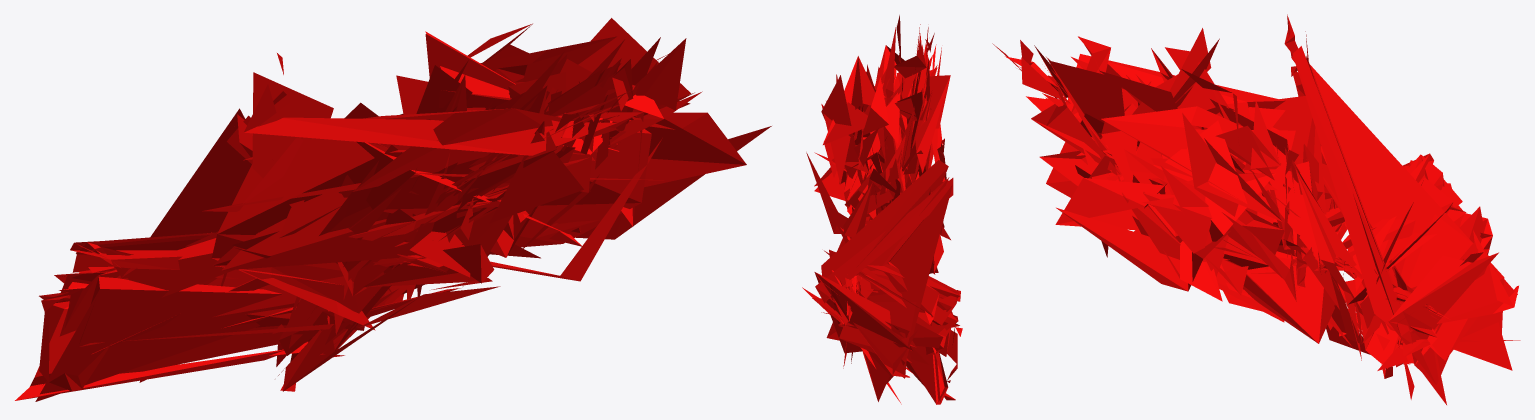
3 views of the same model, side by side, from view 1: azimuth 30°, elevation 25°; view 2: azimuth 150°, elevation 25°; view 3: azimuth 270°, elevation 25° (orthographic). The views are drawn at different scales.
Visible parts, largest first — view 1: Renderer Node; view 2: Renderer Node; view 3: Renderer Node.
Part boxes in pixels (<box>): Renderer Node: <box>15,18,771,401</box>; Renderer Node: <box>802,15,962,404</box>; Renderer Node: <box>992,14,1520,404</box>.
Size of the model in its own units: 0.6325 by 0.6105 by 0.6978.
1 material, 1 textured.
